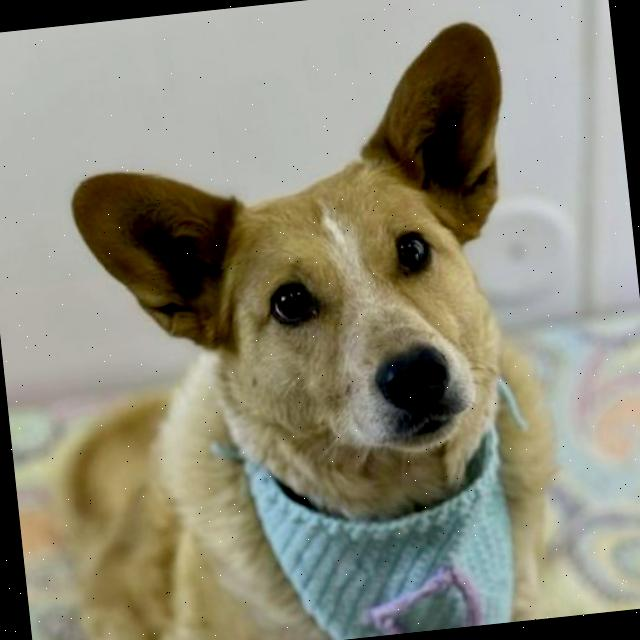corgi_dog: (41, 4, 586, 569)
